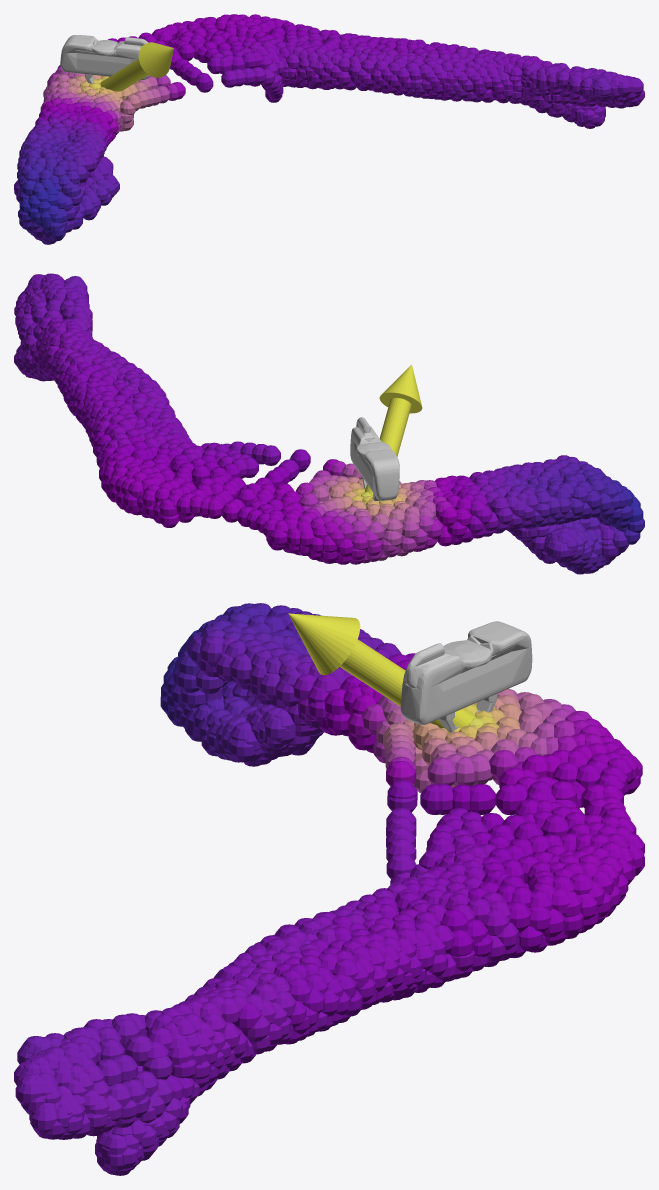
Rendered from pred_hand_0.glb.
3 views of the same model, one above another, from view 1: azimuth 30°, elevation 25°; view 2: azimuth 150°, elevation 25°; view 3: azimuth 270°, elevation 25° (orthographic). The views are drawn at different scales.
Parts seen in each view (by area): view 1: world, geometry_0454571e51b2a; view 2: world, geometry_0454571e51b2a; view 3: world, geometry_0454571e51b2a.
Boxes of the visible parts, left/top/right/bottom form: world: left=14, top=14, right=644, bottom=244; geometry_0454571e51b2a: left=100, top=42, right=173, bottom=91; world: left=14, top=273, right=644, bottom=574; geometry_0454571e51b2a: left=365, top=364, right=422, bottom=495; world: left=14, top=603, right=644, bottom=1175; geometry_0454571e51b2a: left=288, top=613, right=476, bottom=728.
Size of the model in its own units: 1.5 by 0.3722 by 0.7978.
